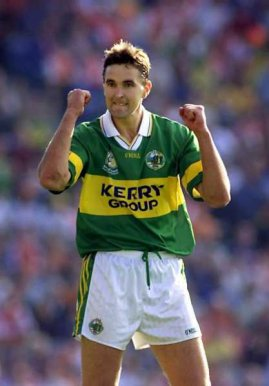player: (49, 30, 230, 372)
